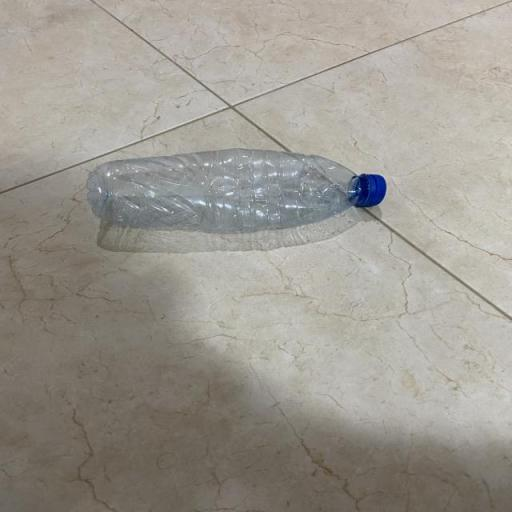plastic: (74, 142, 398, 244)
